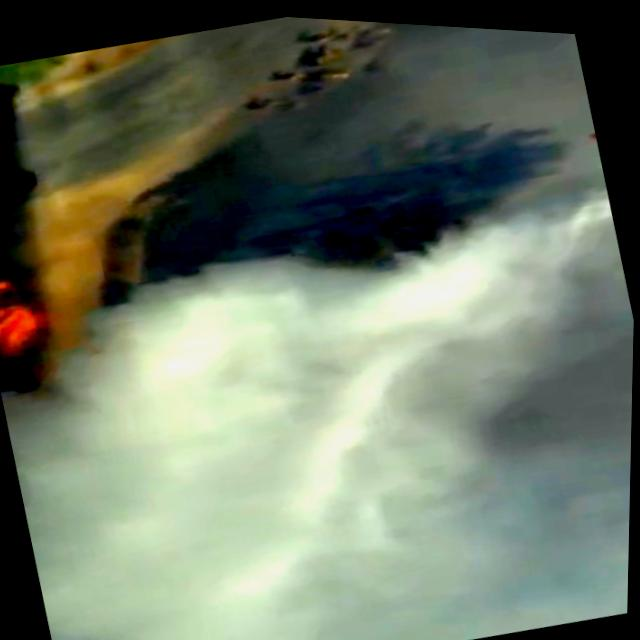fire: (0, 274, 51, 360)
smoke: (410, 535, 631, 640)
